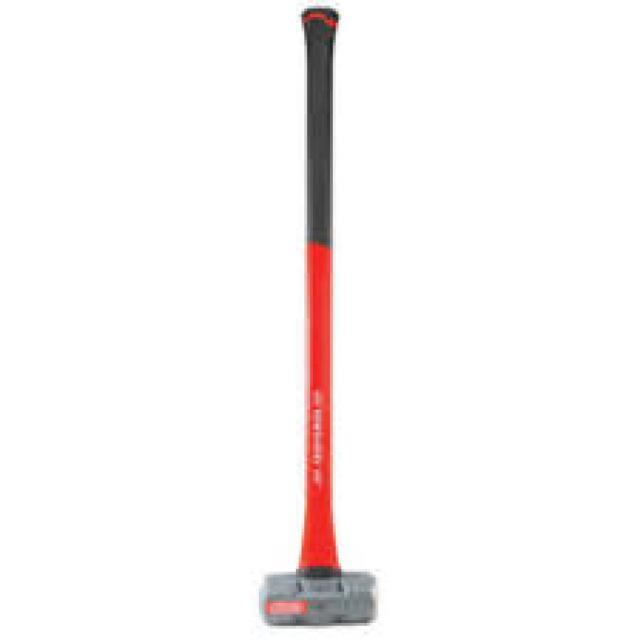hammer: (248, 0, 388, 640)
